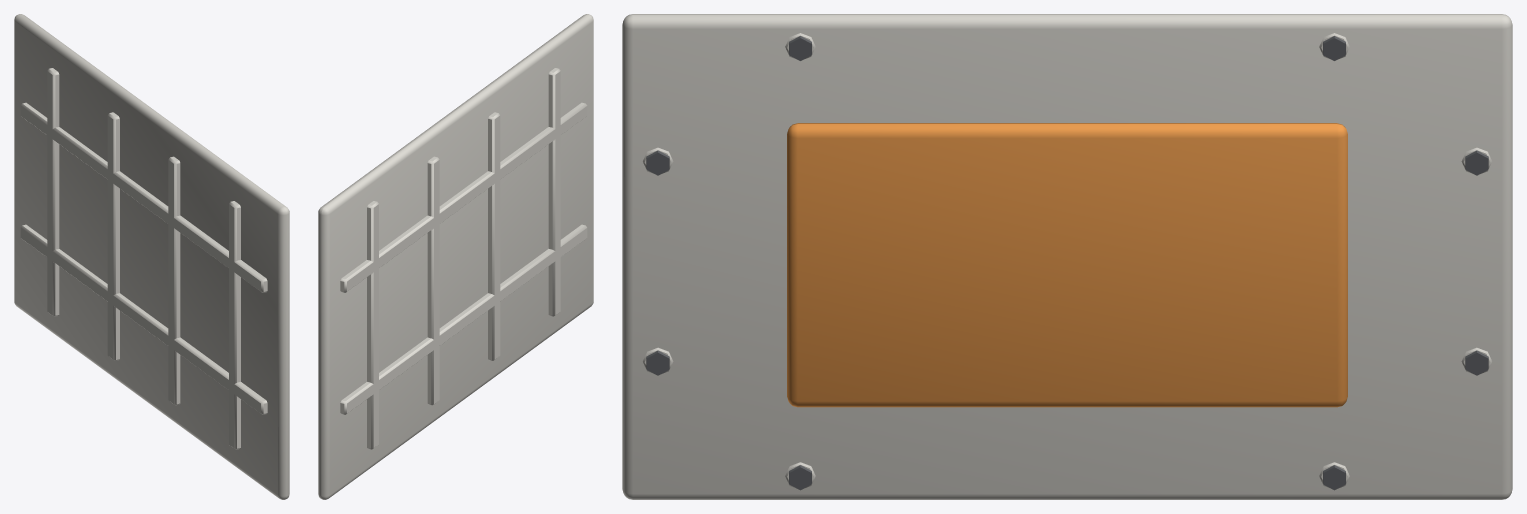
File: plate_flat_hdpe.glb
3 views of the same model, side by side, from view 1: azimuth 30°, elevation 25°; view 2: azimuth 150°, elevation 25°; view 3: azimuth 270°, elevation 25° (orthographic). The views are drawn at different scales.
Visible parts, largest first — view 1: body; view 2: body; view 3: body.
Boxes of the visible parts, bbox=[...] form: body: bbox=[14, 14, 289, 499]; body: bbox=[318, 14, 593, 499]; body: bbox=[622, 14, 1512, 499].
Size of the model in its own units: 0.029 by 0.3 by 0.5.
